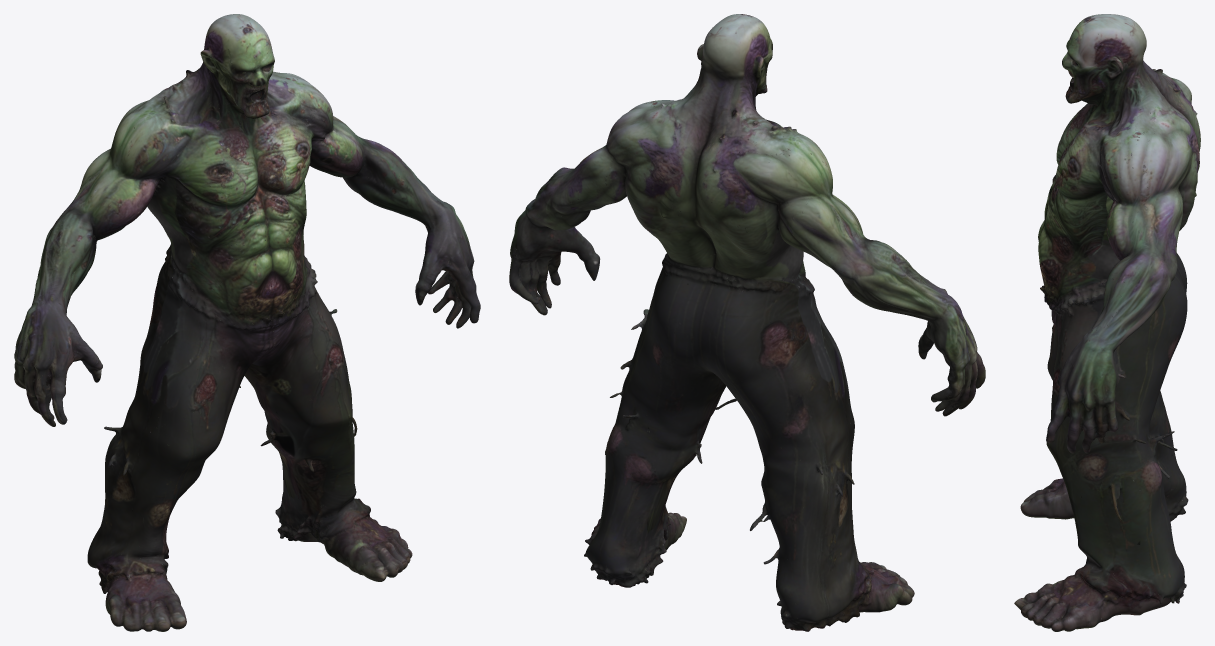
The model's file is A_colossal_zombie_jug_0906200532_texture.fbx.
3 views of the same model, side by side, from view 1: azimuth 30°, elevation 25°; view 2: azimuth 150°, elevation 25°; view 3: azimuth 270°, elevation 25° (orthographic). The views are drawn at different scales.
Visible parts, largest first — view 1: Mesh1.0; view 2: Mesh1.0; view 3: Mesh1.0.
Boxes of the visible parts, x1,y1,x2,y2 form: Mesh1.0: (14, 14, 480, 631); Mesh1.0: (509, 14, 985, 631); Mesh1.0: (1014, 14, 1200, 631).
Size of the model in its own units: 168 by 199 by 61.67.
Materials: 1 (1 with a texture image).
